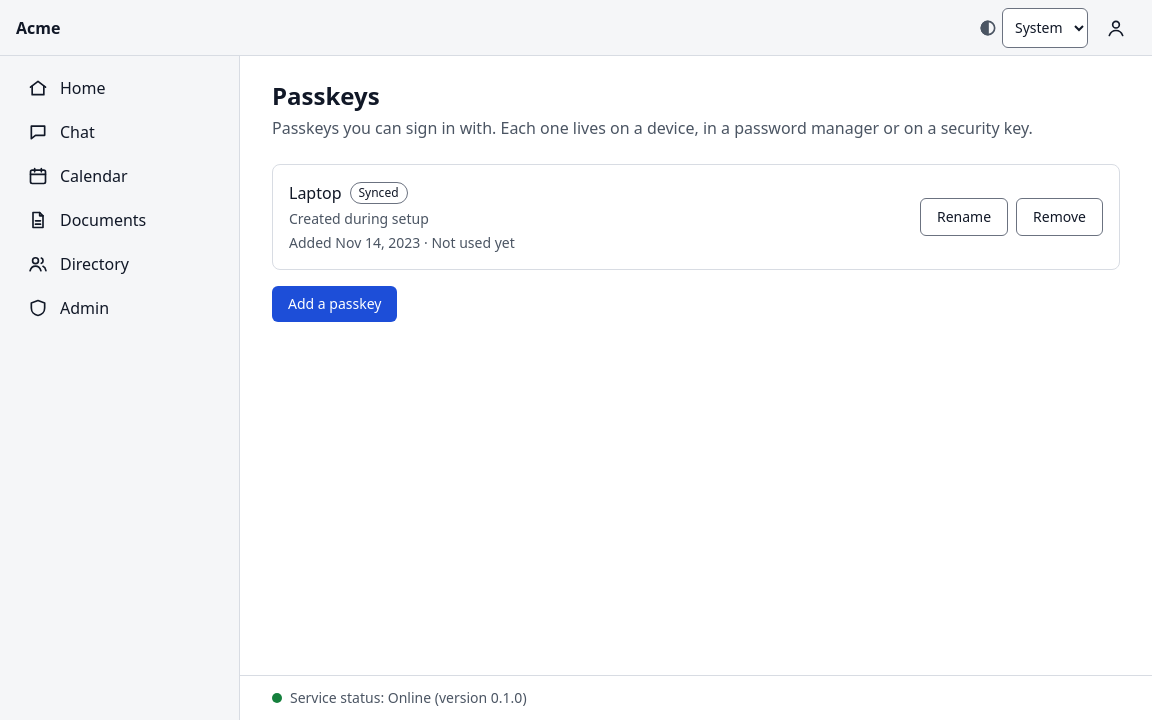
Test case: passkeys, step-up and the banner (Identity §4.4, §4.5, §4.6a) › removing the last passkey explains why it can't
Click the button with aria-label "Remove Laptop" at [1060, 217], box [1016,198,1103,236]
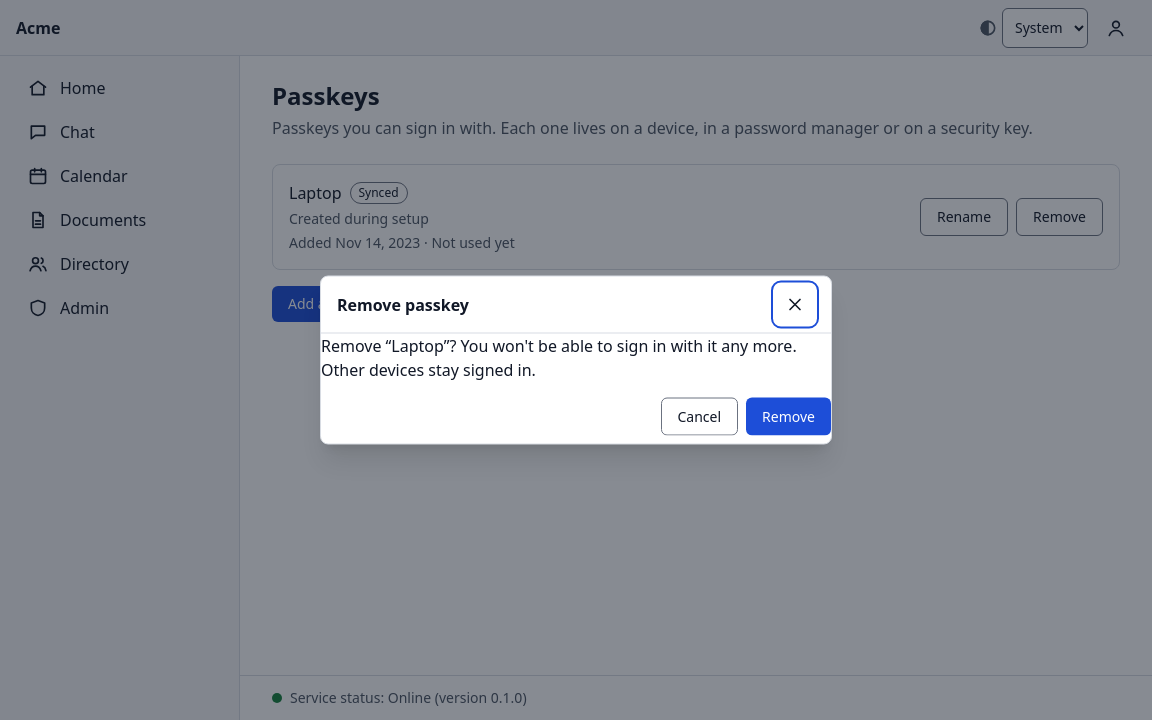
Click the button "Remove" at [789, 416], box [746,398,831,436]
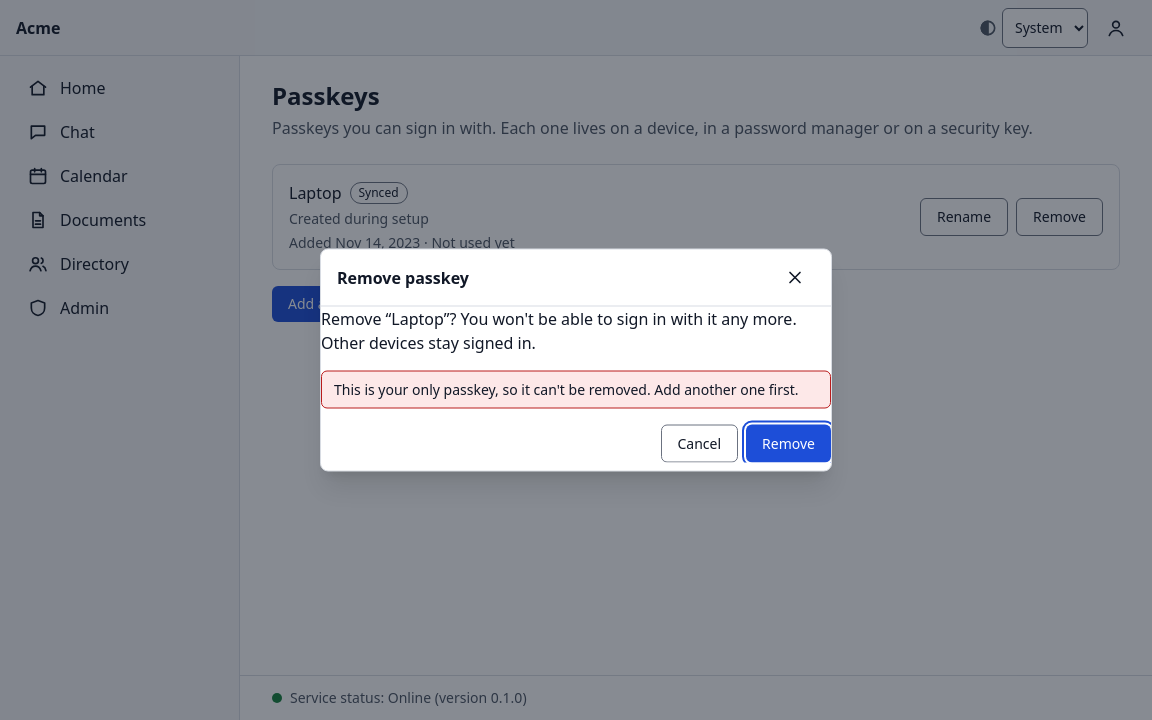
Result: the text "This is your only passkey, so it can't be removed. Add another one first." is shown at [321,370,831,408]
